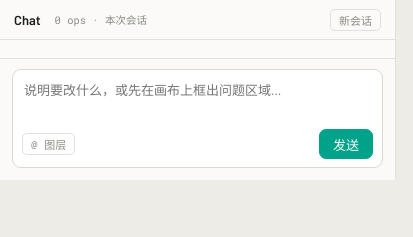
Test: ChatPanel › surfaces a failed history load instead of rejecting into the void
Click the button "0 ops · 本次会话" at (101, 20), box [48,11,153,28]
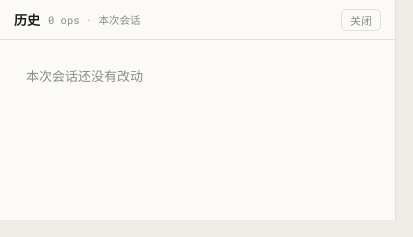
Now the text "加载历史失败：HTTP 500: boom" is shown, box [26,64,211,84]
